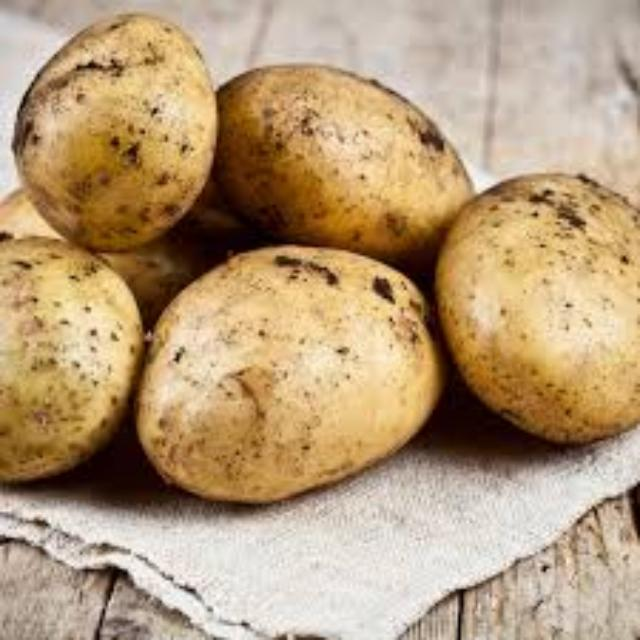Potato: (126, 245, 452, 510), (434, 164, 640, 450), (10, 14, 226, 266)
